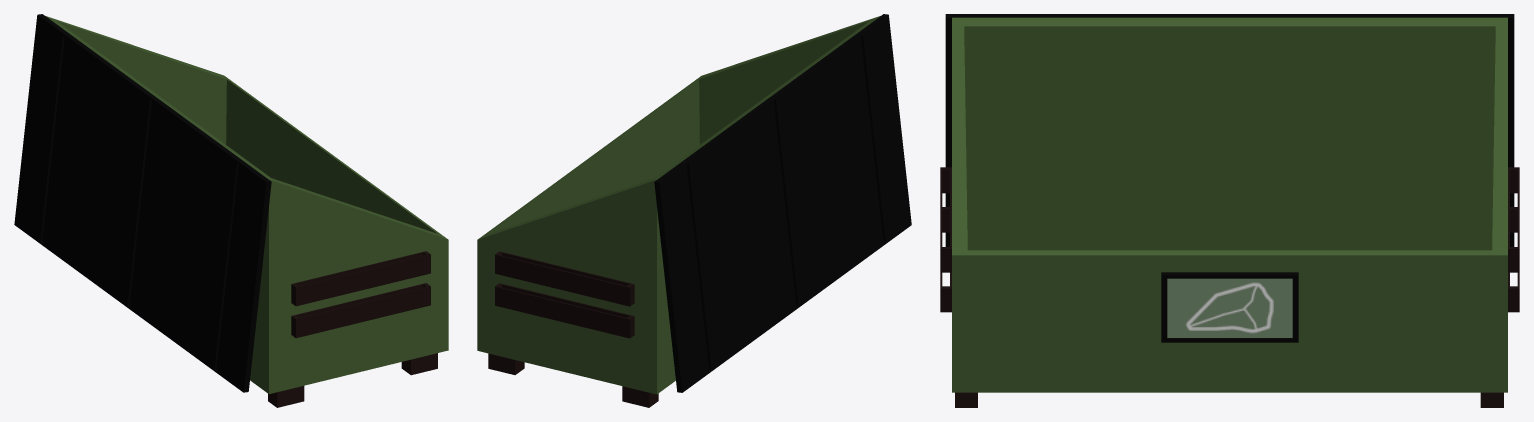
Rendered from Rubble Dumpster.fbx.
The picture shows the model from 3 angles, left to right: view 1: azimuth 30°, elevation 25°; view 2: azimuth 150°, elevation 25°; view 3: azimuth 270°, elevation 25°; orthographic projection. The views are drawn at different scales.
Visible parts, largest first — view 1: Cube, Dumpster_Body, Dumpster_Handles_Left2, Dumpster_Handles_Left1, Dumpster_Legs_Left1, Dumpster_Legs_Left2; view 2: Cube, Dumpster_Body, Dumpster_Handles_Right1, Dumpster_Handles_Right2, Dumpster_Legs_Right2, Dumpster_Legs_Right1; view 3: Dumpster_Body, Dumpster_Sign, Cube, Dumpster_Handles_Left2, Dumpster_Handles_Right1, Dumpster_Handles_Left1, Dumpster_Handles_Right2.
Boxes of the visible parts, box(x1,y1,x2,y2) form: Cube: box(14, 14, 271, 392); Dumpster_Body: box(45, 16, 448, 394); Dumpster_Handles_Left2: box(291, 251, 430, 306); Dumpster_Handles_Left1: box(291, 283, 430, 338); Dumpster_Legs_Left1: box(268, 386, 304, 407); Dumpster_Legs_Left2: box(401, 353, 437, 375); Cube: box(654, 14, 911, 392); Dumpster_Body: box(477, 16, 880, 394); Dumpster_Handles_Right1: box(495, 251, 634, 306); Dumpster_Handles_Right2: box(495, 283, 634, 338); Dumpster_Legs_Right2: box(622, 386, 658, 407); Dumpster_Legs_Right1: box(488, 353, 524, 374); Dumpster_Body: box(952, 17, 1507, 392); Dumpster_Sign: box(1161, 272, 1298, 342); Cube: box(945, 14, 1514, 246); Dumpster_Handles_Left2: box(940, 167, 951, 272); Dumpster_Handles_Right1: box(1508, 167, 1519, 272); Dumpster_Handles_Left1: box(940, 207, 951, 312); Dumpster_Handles_Right2: box(1508, 207, 1519, 312).
Size of the model in its own units: 237 by 247 by 450.
